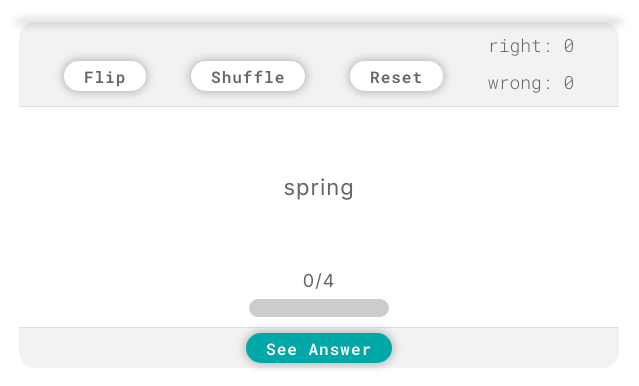
it: learn › veryfying answer › should go to the next card
What coordinates should you click on to do the following:
click the button "See Answer"
I would click on:
 (319, 348)
Its box is x1=246 y1=333 x2=392 y2=363.
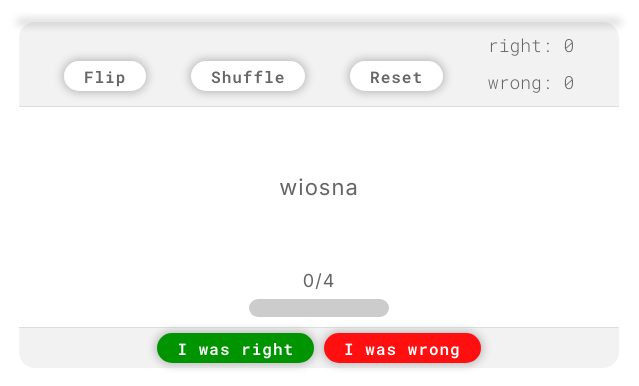
What coordinates should you click on to do the following:
click the button "I was right"
I would click on:
 (236, 348)
Its box is x1=158 y1=333 x2=314 y2=363.
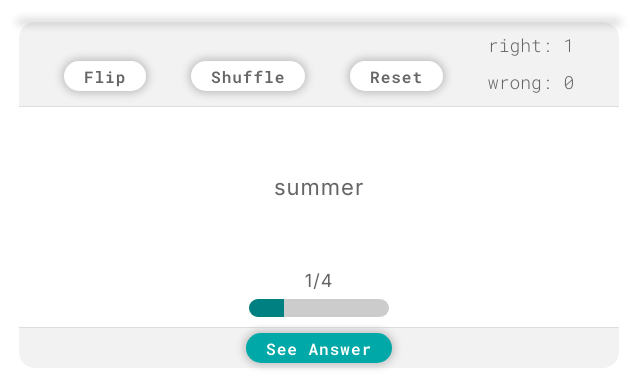
Result: the text "summer" is shown at x1=274 y1=170 x2=364 y2=204
Result: the text "right: 1" is shown at x1=488 y1=32 x2=574 y2=59
Result: the text "1/4" is shown at x1=305 y1=267 x2=333 y2=294
